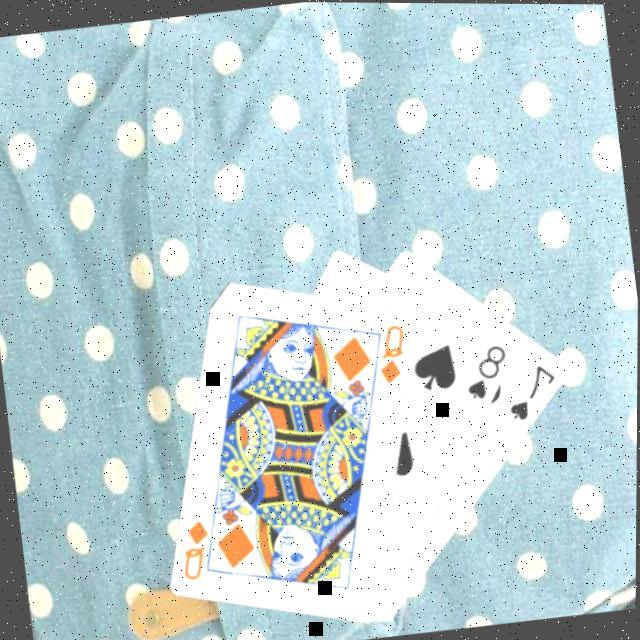7S: (502, 359, 565, 425)
8S: (461, 340, 516, 405)
QD: (175, 516, 219, 586), (373, 320, 415, 388)
